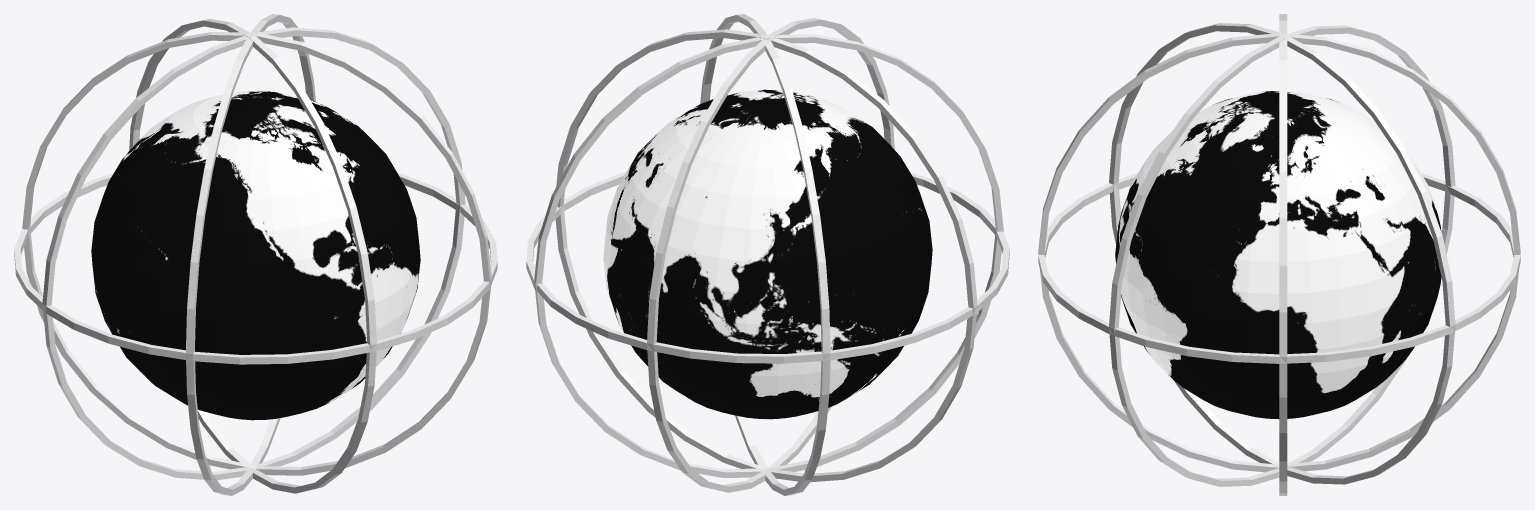
The picture shows the model from 3 angles, left to right: view 1: azimuth 30°, elevation 25°; view 2: azimuth 150°, elevation 25°; view 3: azimuth 270°, elevation 25°; orthographic projection.
Visible parts, largest first — view 1: earth2, LEYLINE.002, LEYLINE.001, LEYLINE.003, Equator, LEYLINE; view 2: earth2, LEYLINE.002, LEYLINE, LEYLINE.003, Equator, LEYLINE.001; view 3: earth2, LEYLINE.003, LEYLINE.001, LEYLINE, Equator, LEYLINE.002.
Boxes of the visible parts, box(x1,y1,x2,y2) form: earth2: box(91, 90, 420, 420); LEYLINE.002: box(42, 27, 465, 480); LEYLINE.001: box(22, 32, 491, 475); LEYLINE.003: box(129, 18, 376, 493); Equator: box(14, 173, 497, 364); LEYLINE: box(185, 14, 315, 495); earth2: box(603, 89, 932, 419); LEYLINE.002: box(555, 29, 977, 482); LEYLINE: box(534, 34, 1003, 477); LEYLINE.003: box(647, 18, 894, 492); Equator: box(526, 172, 1009, 363); LEYLINE.001: box(700, 14, 830, 495); earth2: box(1115, 90, 1441, 419); LEYLINE.003: box(1038, 33, 1520, 472); LEYLINE.001: box(1109, 25, 1455, 486); LEYLINE: box(1109, 23, 1455, 484); Equator: box(1038, 173, 1520, 363); LEYLINE.002: box(1279, 14, 1287, 495).
Bounding box in the file's own units: 2.1 × 2.1 × 2.1.
Materials: 2 (1 with a texture image).
